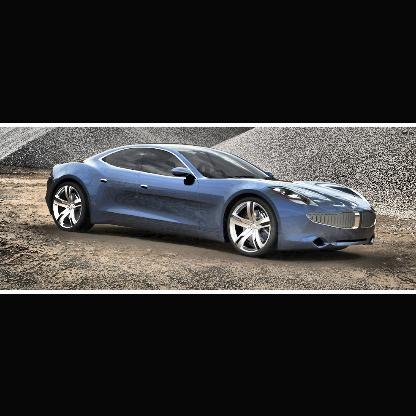Fisker Karma Sedan 2012: (47, 144, 379, 258)
